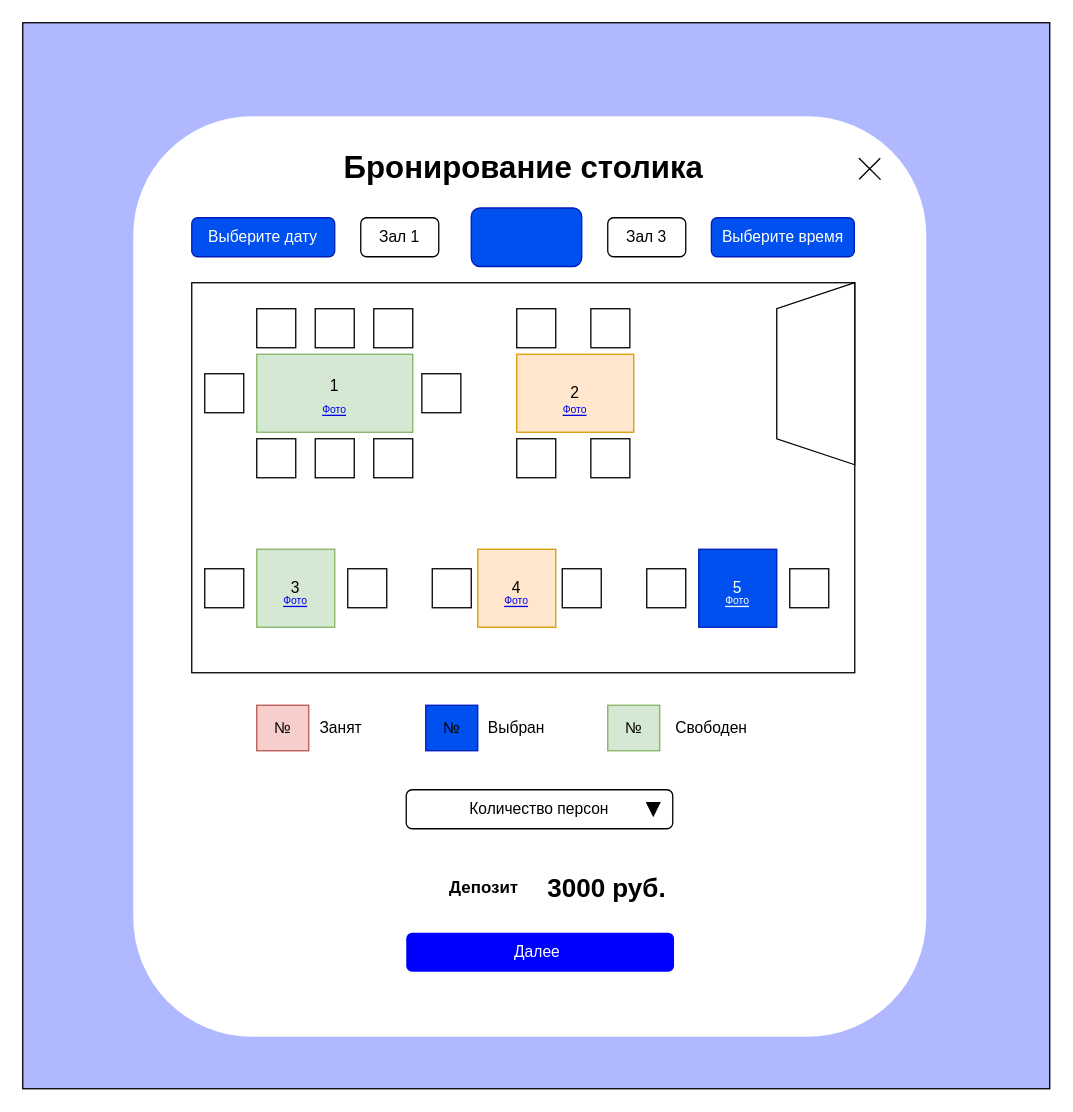
Some shapes in this 1073 by 1112 pixel diagram are drawn without their labels. The shapes that lost their labels are listed below. From the top down, each one's centre as x and y in pixels, then its label:
At pixel 526 236: "Зал 2".
At pixel 815 373: "Сцена".
